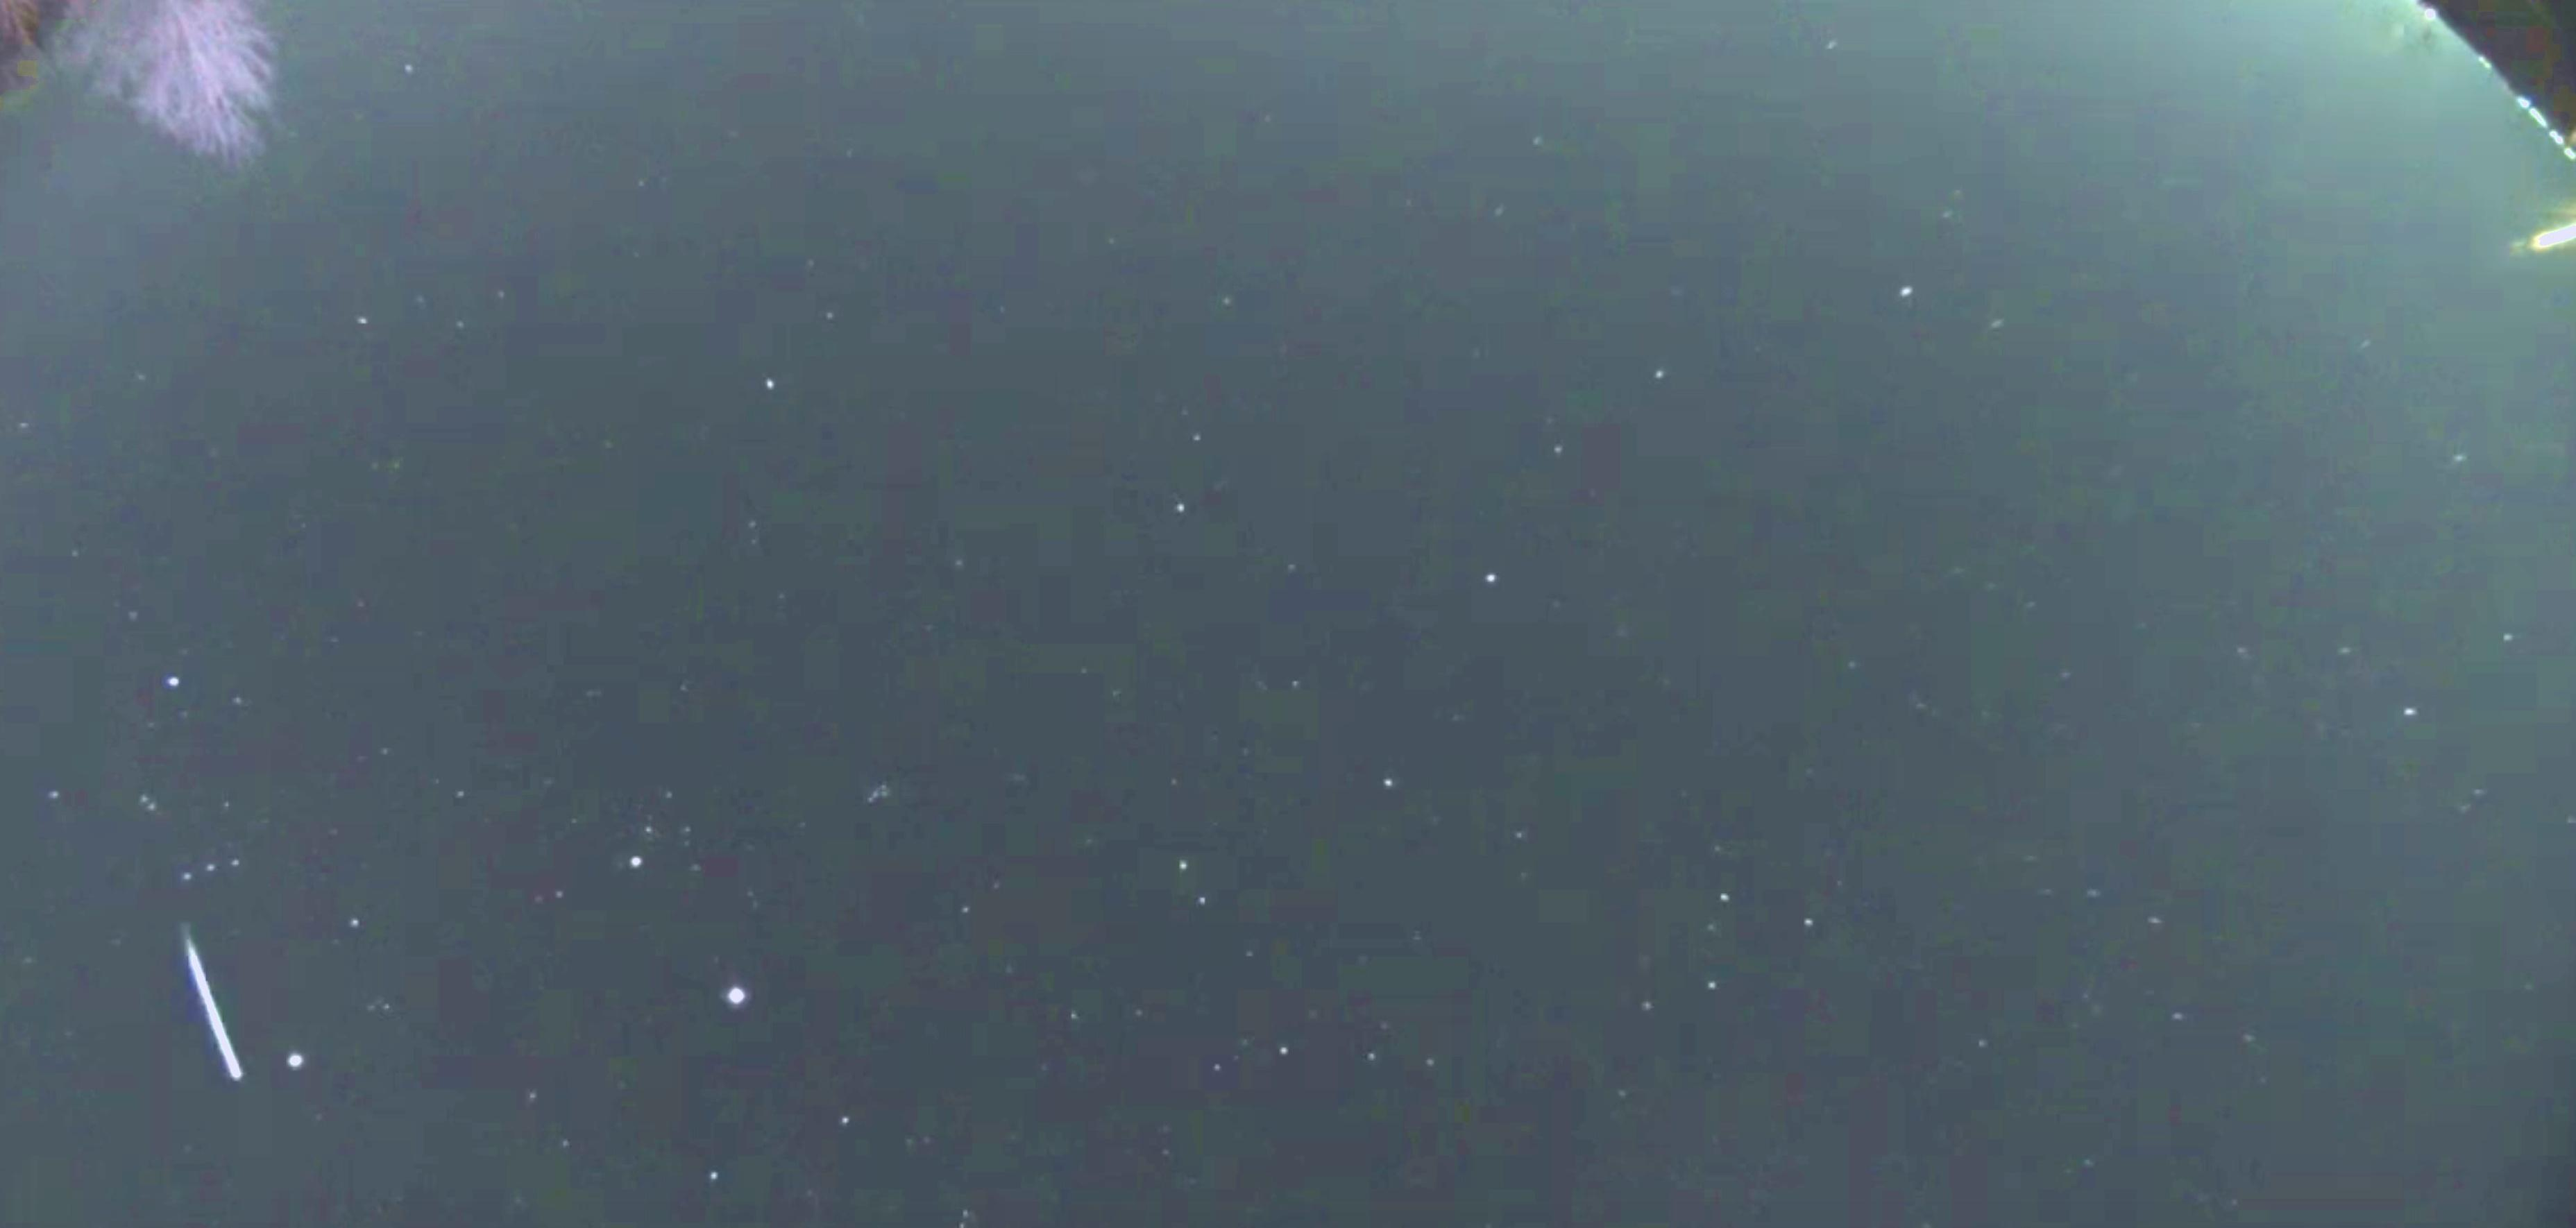meteorite: (123, 883, 312, 1107)
